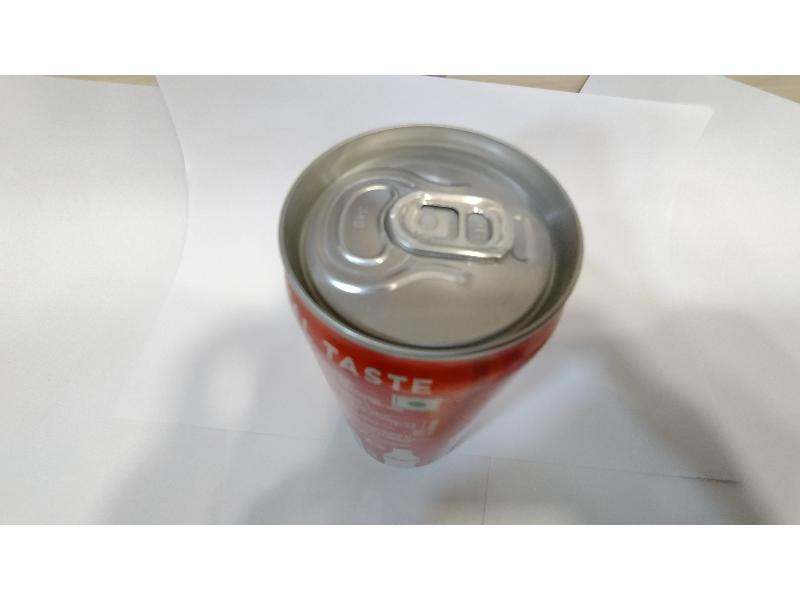can: (276, 124, 581, 468)
